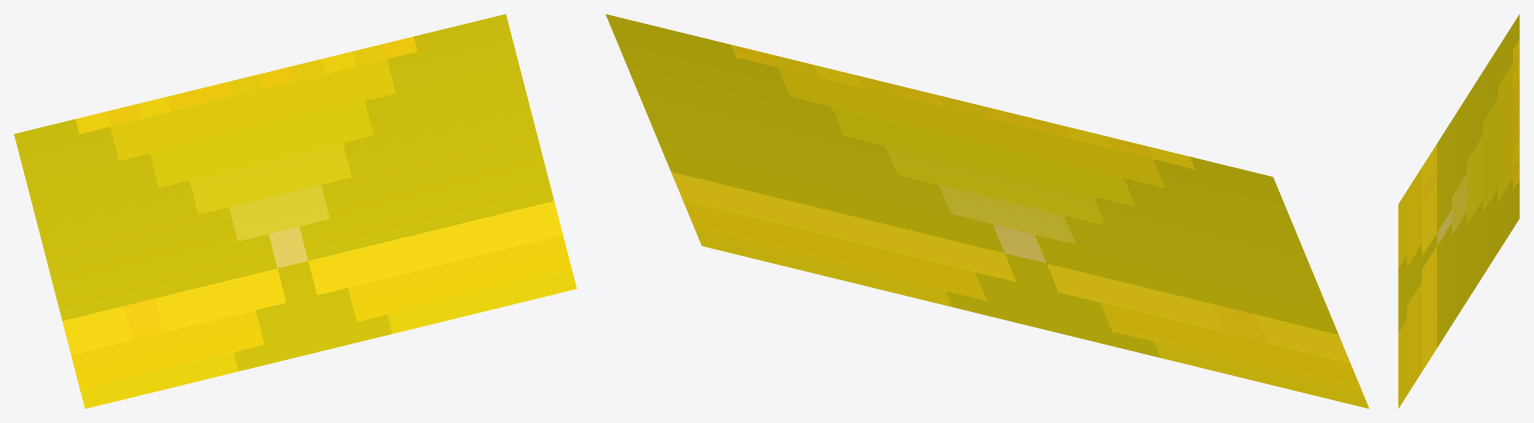
The picture shows the model from 3 angles, left to right: view 1: azimuth 30°, elevation 25°; view 2: azimuth 150°, elevation 25°; view 3: azimuth 270°, elevation 25°; orthographic projection. The views are drawn at different scales.
Bounding box in the file's own units: 1 × 0.4331 × 0.25.
Materials: 1 (1 with a texture image).
